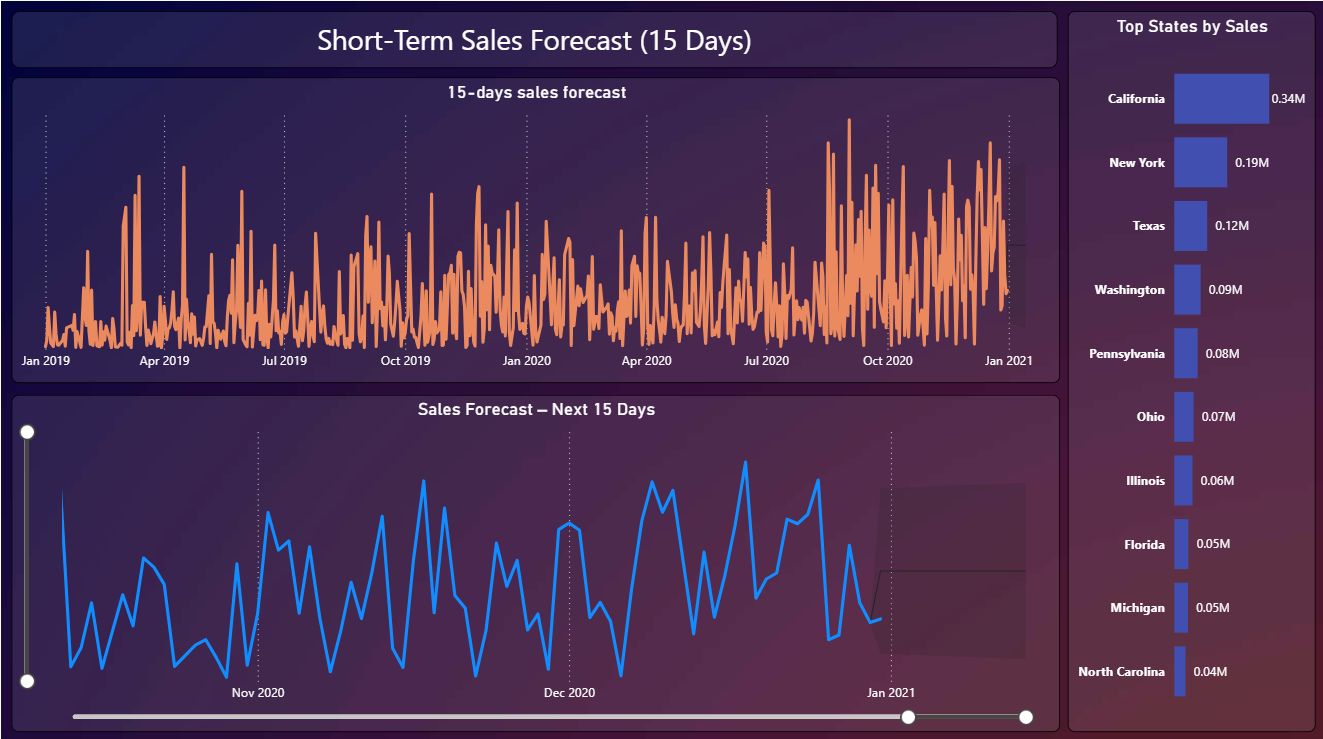

What the dashboard file says about the page in this screenshot:
{"tool":"powerbi","page":{"name":"Forecasting","canvas":[1280,720],"ordinal":1},"visuals":[{"type":"lineChart","title":"15-days sales forecast","fields":{"Y":["Sum(SuperStore_Sales_Dataset.Sales)"],"Category":["SuperStore_Sales_Dataset.Order Date"]},"box":[12.1,73.6,1012.2,295.6],"z":0},{"type":"lineChart","title":"Sales Forecast – Next 15 Days","fields":{"Y":["Sum(SuperStore_Sales_Dataset.Sales)"],"Category":["SuperStore_Sales_Dataset.Order Date"]},"box":[12.1,380,1012.2,325.7],"z":1000},{"type":"barChart","title":"Top States by Sales","fields":{"Y":["Sum(SuperStore_Sales_Dataset.Sales)"],"Category":["SuperStore_Sales_Dataset.State"]},"box":[1031.5,9.7,238.9,696.1],"z":2000},{"type":"textbox","box":[12.3,9.6,1010,54.9],"z":3000}]}

Visuals, with their boxes in screenshot pixels (x1, y1, x2, y2), scaled from the page's 1280x720 canvas onto the 1323x739 screenshot:
"15-days sales forecast" lineChart: bbox=(13, 76, 1059, 379)
"Sales Forecast – Next 15 Days" lineChart: bbox=(13, 390, 1059, 724)
"Top States by Sales" barChart: bbox=(1066, 10, 1313, 724)
textbox: bbox=(13, 10, 1057, 66)
